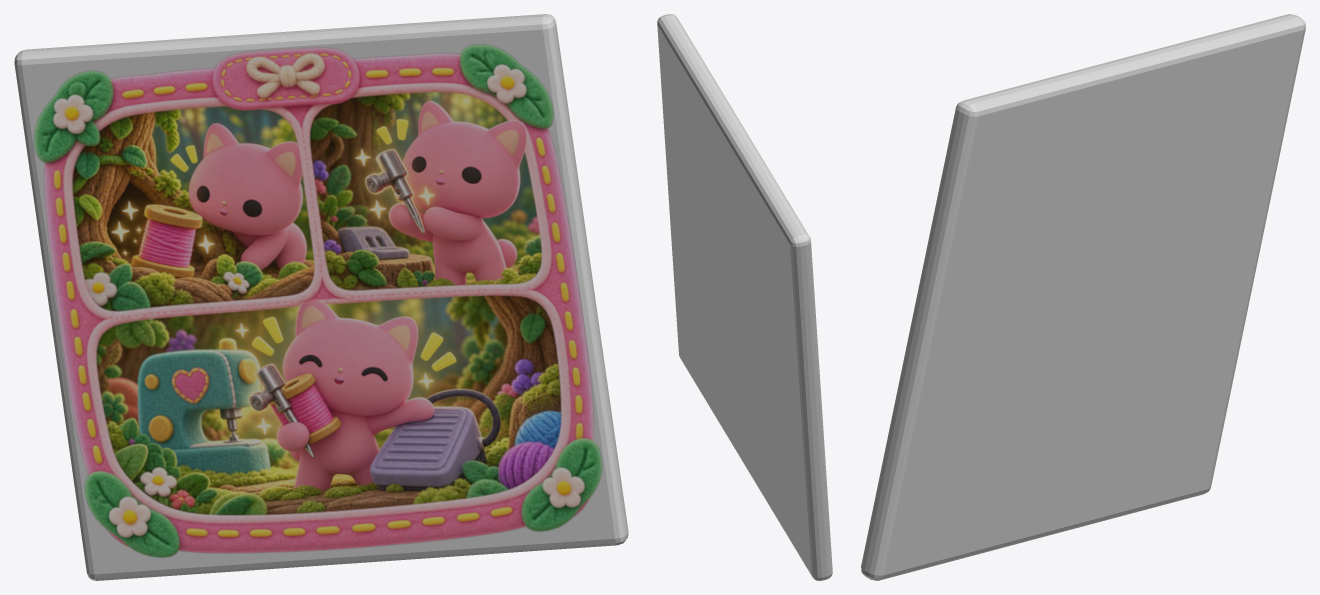
The model's file is memory_7.glb.
3 views of the same model, side by side, from view 1: azimuth 30°, elevation 25°; view 2: azimuth 150°, elevation 25°; view 3: azimuth 270°, elevation 25° (orthographic). The views are drawn at different scales.
Parts seen in each view (by area): view 1: memory_7_page; view 2: memory_7_page; view 3: memory_7_page.
Boxes of the visible parts, x1=… form: memory_7_page: x1=14, y1=14, x2=628, y2=580; memory_7_page: x1=657, y1=14, x2=832, y2=580; memory_7_page: x1=861, y1=14, x2=1305, y2=580.
Size of what is drawn, in the model's own units: 0.6487 by 0.9089 by 0.6793.
Materials: 2 (1 with a texture image).
